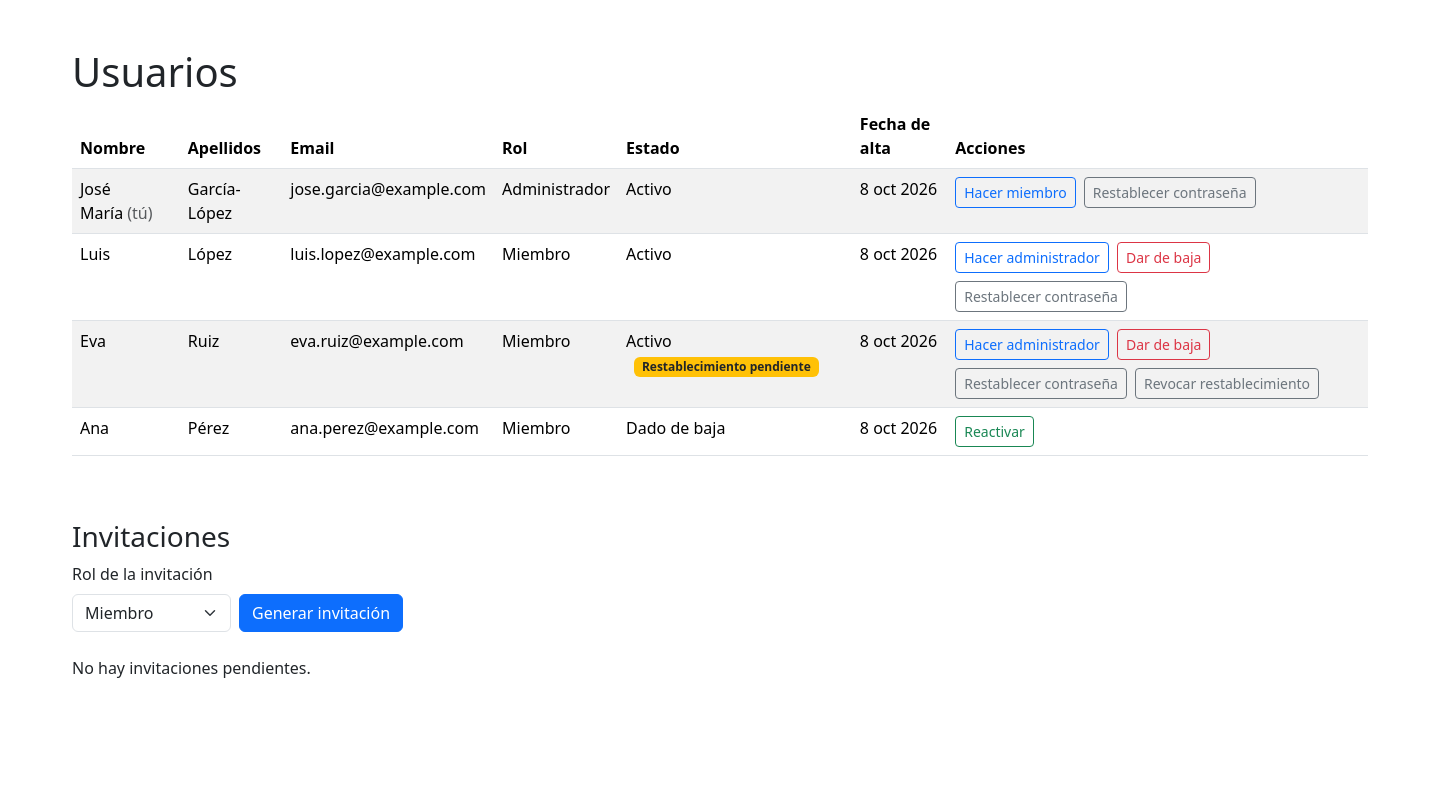
UsersPage password reset › generating the link › shows the link once in a panel with the warning, marks the row and does not reload the list
The width and height of the screenshot is (1440, 797).
Click the 2nd button "Restablecer contraseña" at x=1041, y=296, box [955,281,1127,312]
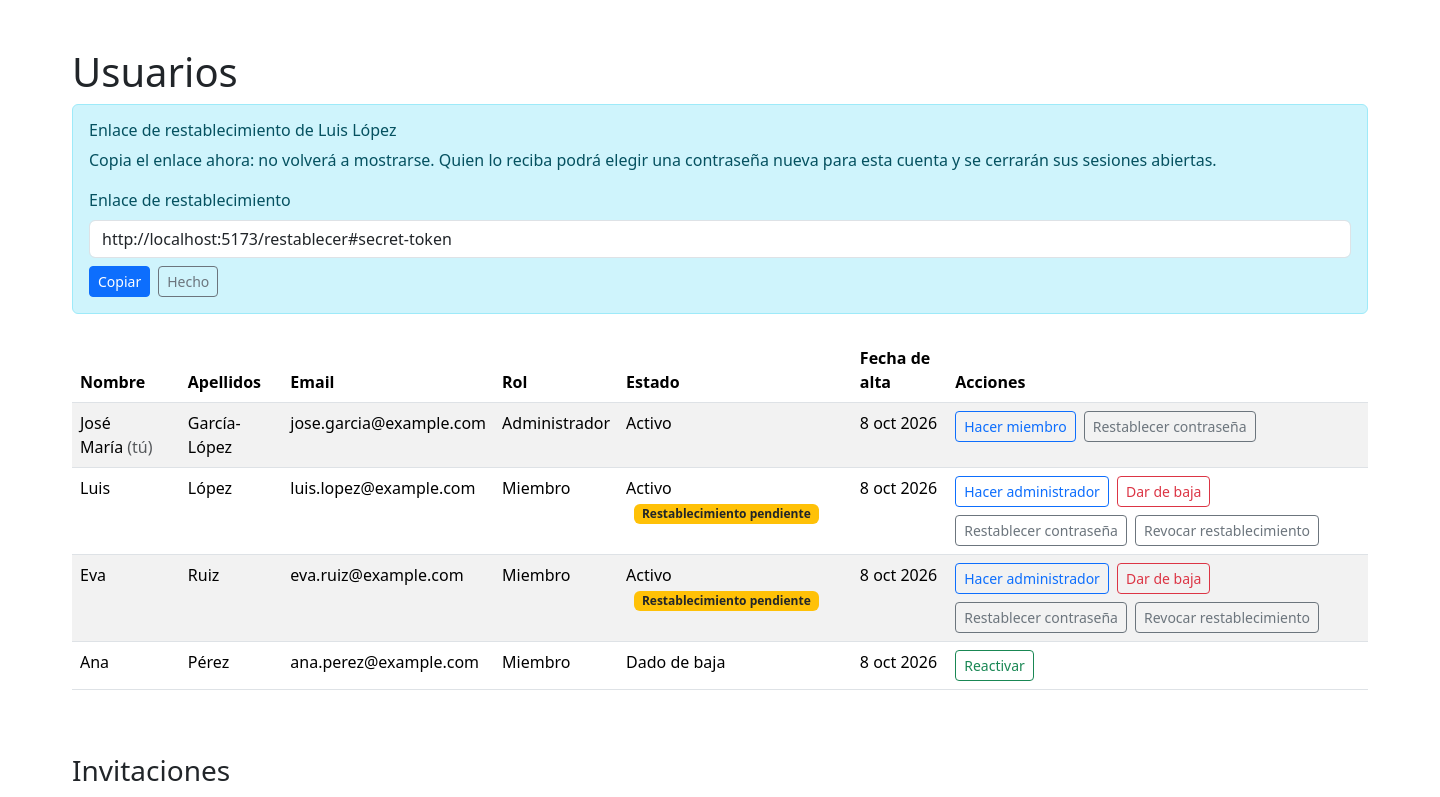
expect the field labelled "Enlace de restablecimiento" holds "http://localhost:5173/restablecer#secret-token": met, box [89,220,1351,258]
expect the text "Copia el enlace ahora: no volverá a mostrarse. Quien lo reciba podrá elegir una contraseña nueva para esta cuenta y se c" is shown: met, box [89,149,1217,171]
expect the text "Restablecimiento pendiente" below "luis.lopez@example.com" is shown: met, box [642,505,811,522]
